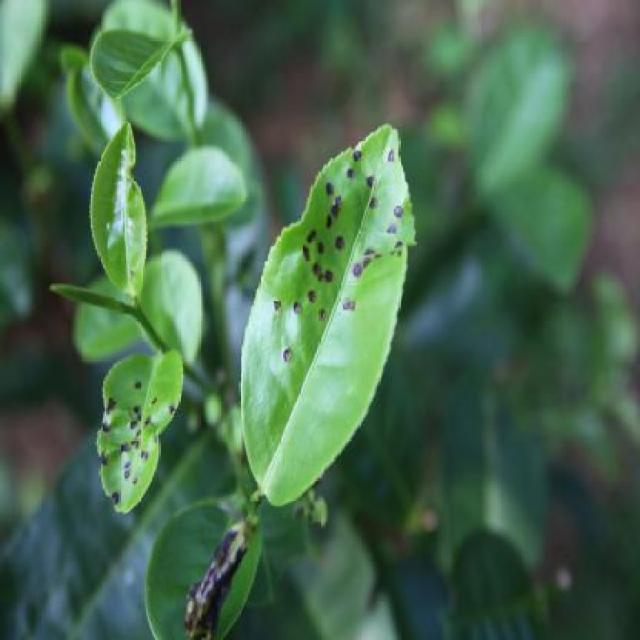Tea Mosquito bug infested leaf: (246, 119, 412, 542), (102, 348, 183, 522)
